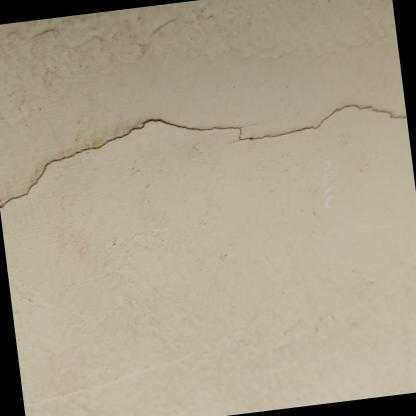crack: (0, 105, 406, 207)
